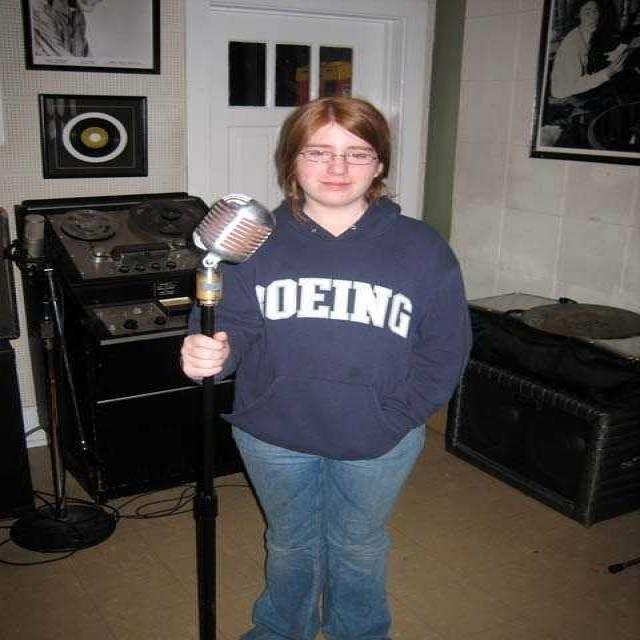microphone: (193, 194, 275, 266)
